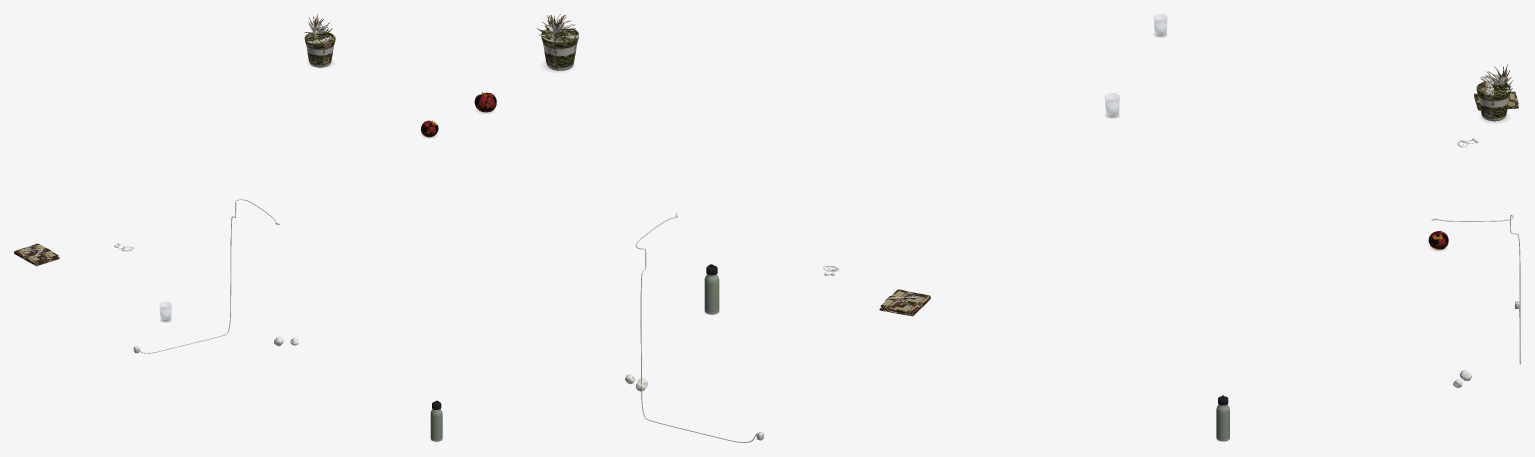
File: props_clutter.glb
3 renders of one model, left to right at view 1: azimuth 30°, elevation 25°; view 2: azimuth 150°, elevation 25°; view 3: azimuth 270°, elevation 25°, orthographic. The views are drawn at different scales.
Visible parts, largest first — view 1: succulent_shelf, notebook, bottle_mesh, charger_cable; view 2: succulent_shelf, notebook, bottle_mesh; view 3: succulent_shelf, bottle_mesh, charger_cable.
Boxes of the visible parts, x1,y1,x2,y2 form: succulent_shelf: (304, 14, 335, 67); notebook: (14, 243, 59, 266); bottle_mesh: (430, 400, 442, 441); charger_cable: (136, 199, 280, 353); succulent_shelf: (537, 14, 578, 70); notebook: (879, 289, 930, 316); bottle_mesh: (704, 264, 719, 314); succulent_shelf: (1476, 64, 1512, 121); bottle_mesh: (1216, 395, 1229, 441); charger_cable: (1431, 215, 1520, 364).
Bounding box in the file's own units: 2.52 × 1.99 × 1.77.
Materials: 14 (5 with a texture image).
